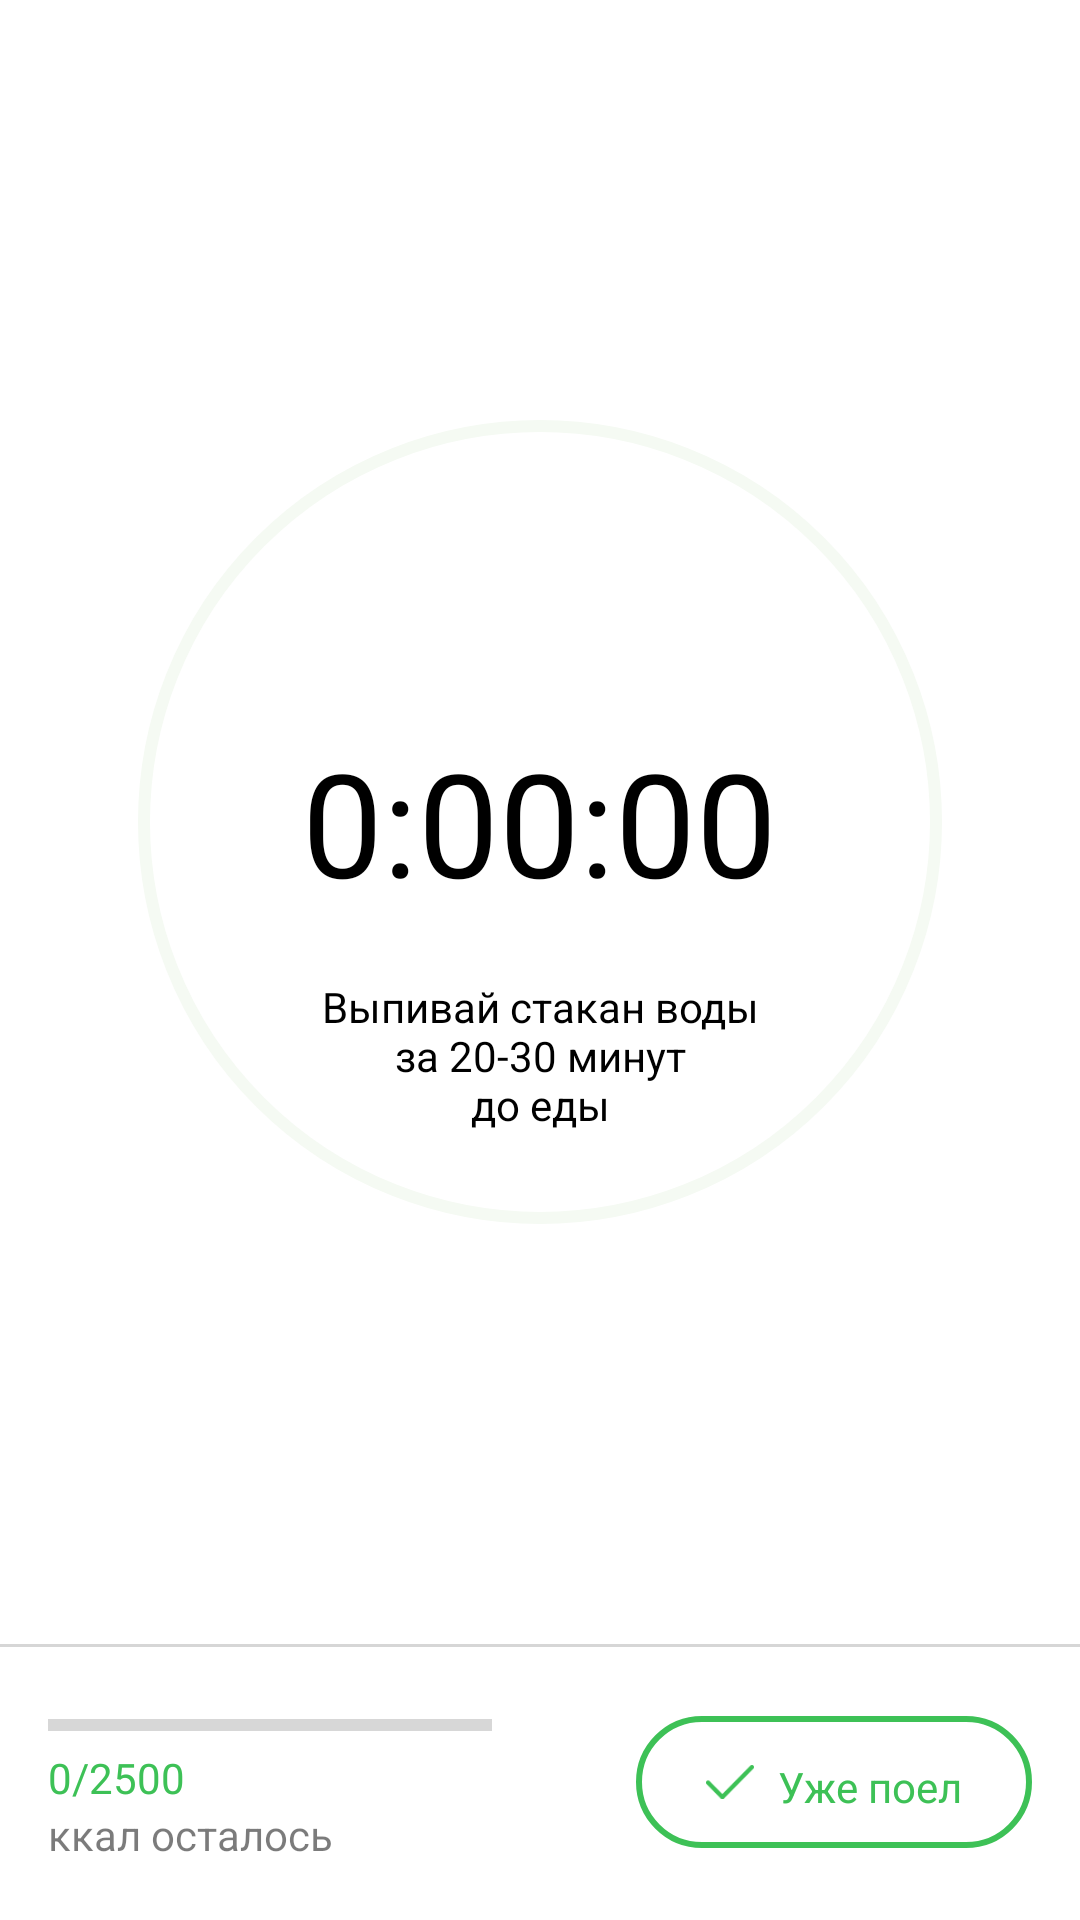

Named icons in this screenshot (1080w x 1920h) and their centers, point (x, y):
check: point (730, 1782)
